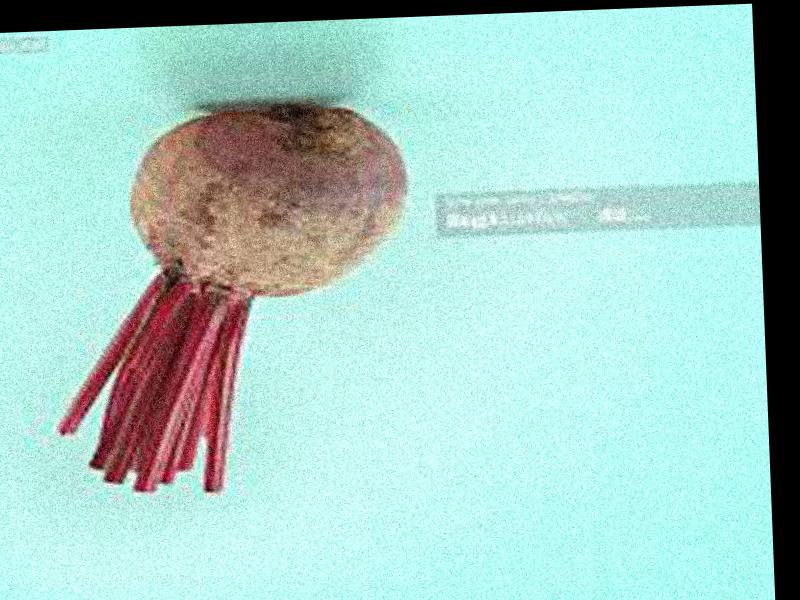Beet: (48, 99, 418, 494)
